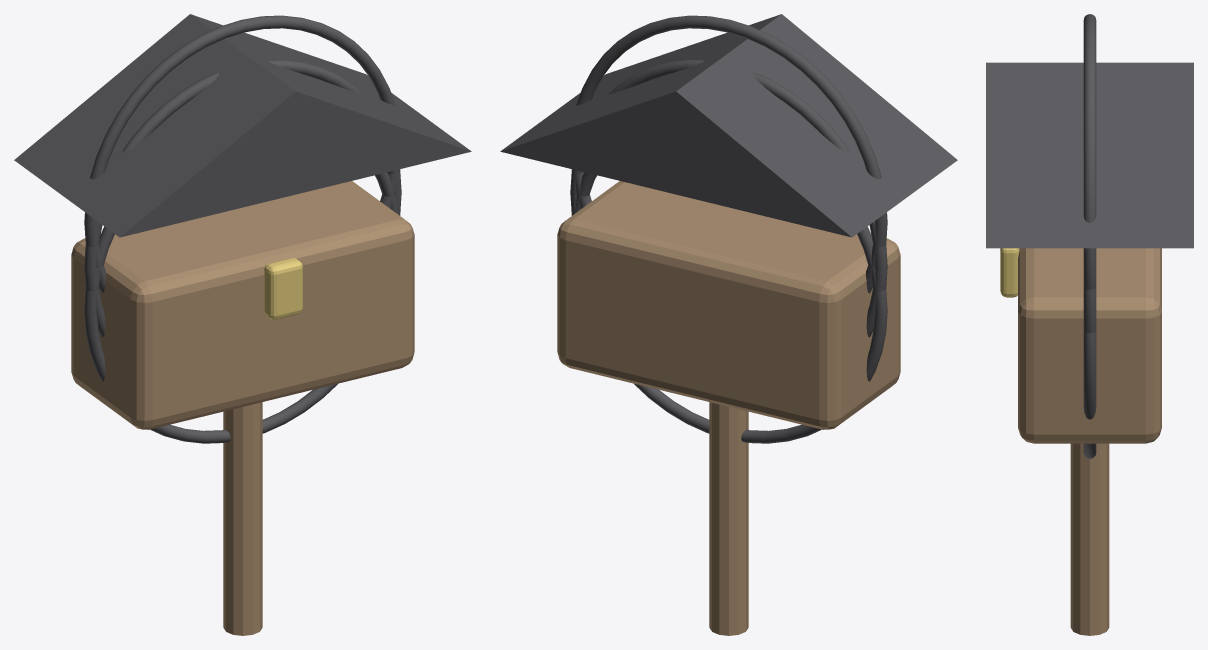
Rendered from medieval_mailbox_LOD1.glb.
3 renders of one model, left to right at view 1: azimuth 30°, elevation 25°; view 2: azimuth 150°, elevation 25°; view 3: azimuth 270°, elevation 25°, orthographic.
Parts seen in each view (by area): view 1: medieval_mailbox; view 2: medieval_mailbox; view 3: medieval_mailbox.
Part boxes in pixels (x1,y1,x2,y2): medieval_mailbox: (14, 14, 471, 635); medieval_mailbox: (500, 14, 957, 635); medieval_mailbox: (986, 14, 1193, 635).
Size of the model in its own units: 1.25 by 2.06 by 0.65.
